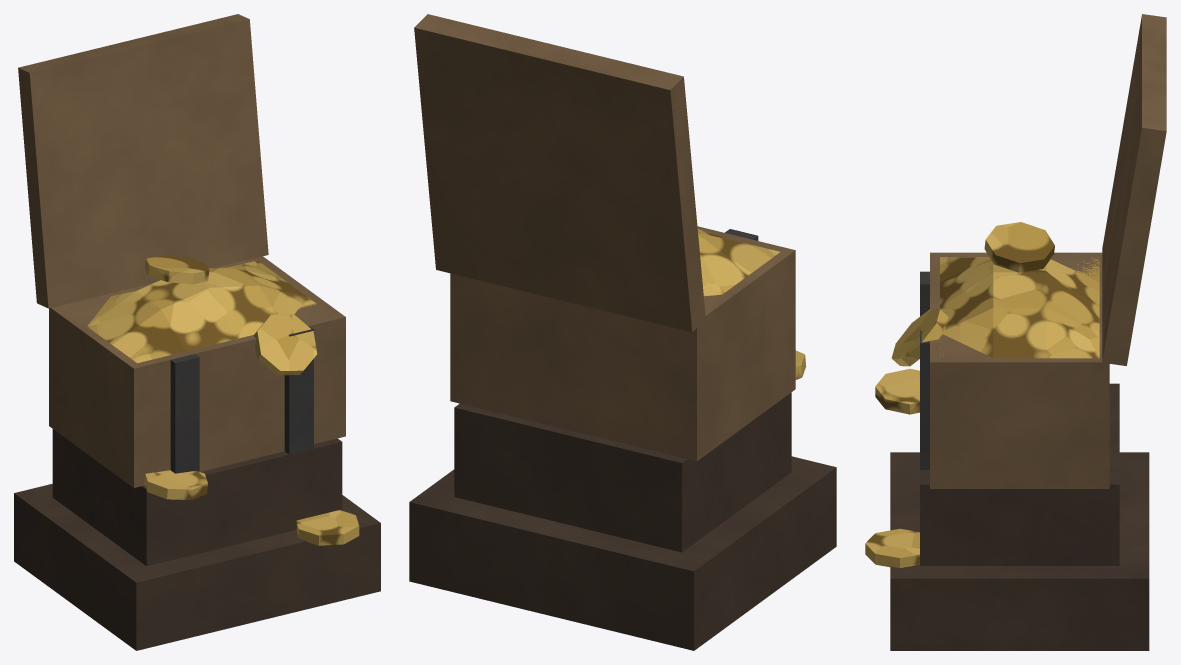
Rendered from 트로피_트레저헌터.fbx.
3 renders of one model, left to right at view 1: azimuth 30°, elevation 25°; view 2: azimuth 150°, elevation 25°; view 3: azimuth 270°, elevation 25°, orthographic. The views are drawn at different scales.
Parts seen in each view (by area): view 1: 트로피_트레저헌터; view 2: 트로피_트레저헌터; view 3: 트로피_트레저헌터.
Part boxes in pixels (x1,y1,x2,y2): 트로피_트레저헌터: (14, 14, 380, 650); 트로피_트레저헌터: (409, 14, 836, 650); 트로피_트레저헌터: (865, 14, 1166, 650).
Bounding box in the file's own units: 60 × 114 × 60.47.
4 materials, 4 textured.
